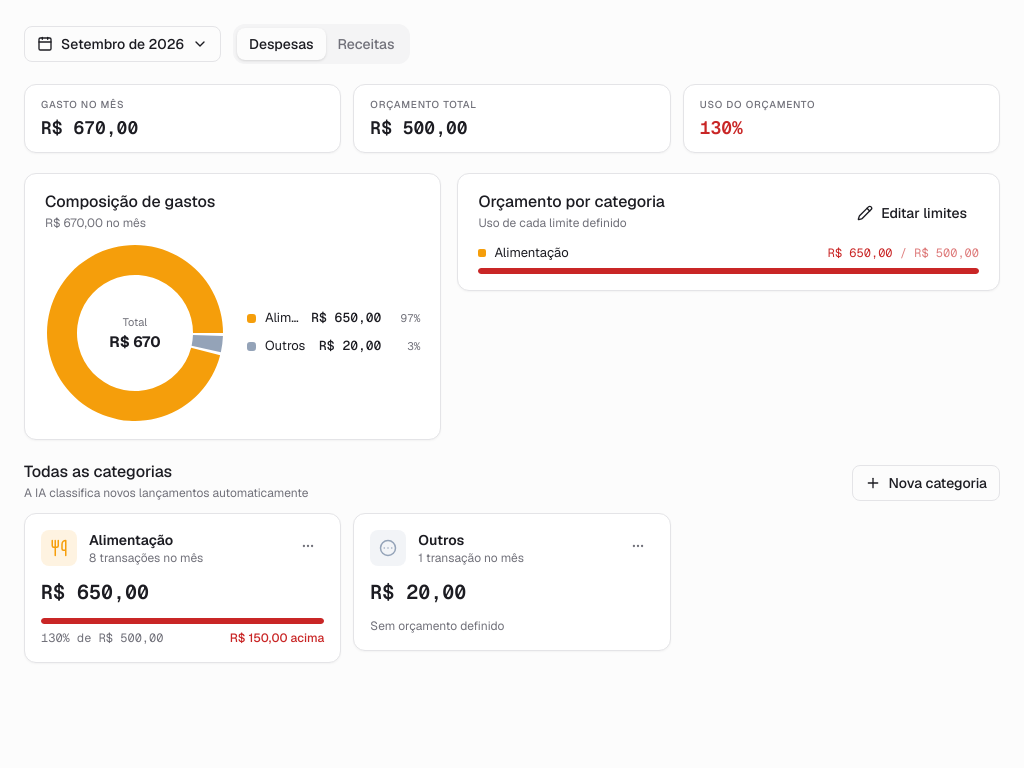
Test case: CategoriesScreen › switches to income categories
The image size is (1024, 768).
Check: the element "Alimentação" is shown, box [24,512,341,662]
Click the tab "Receitas": (366, 44) [326,28,406,60]
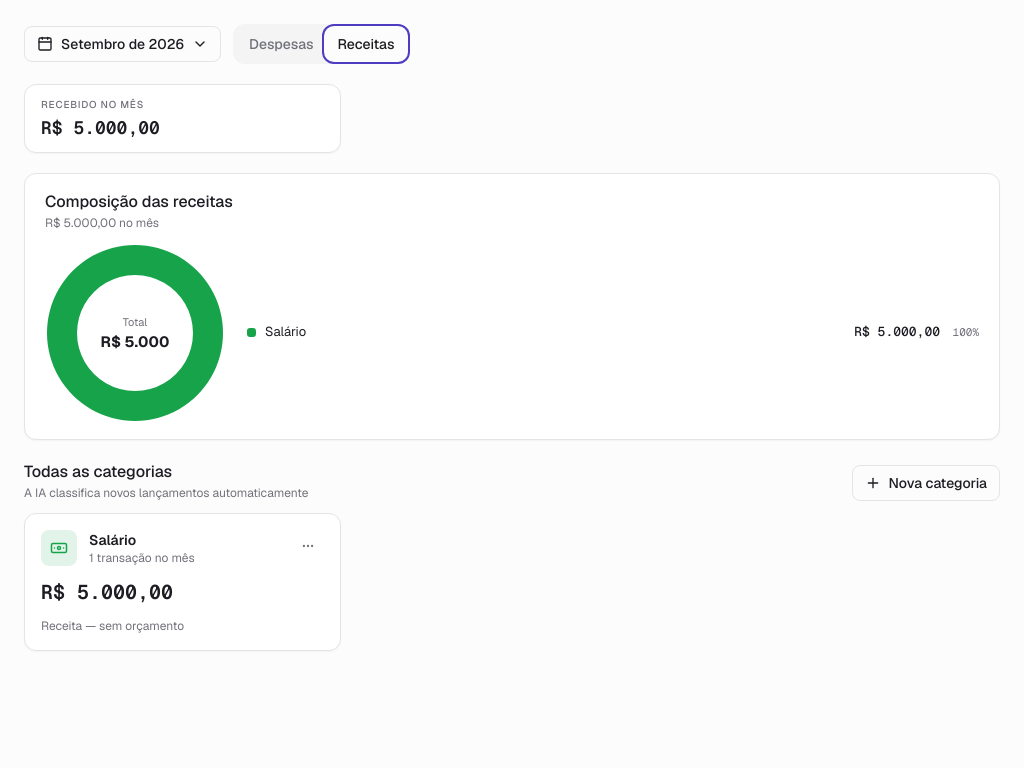
Check: the element "Salário" is shown, box [24,512,341,650]
